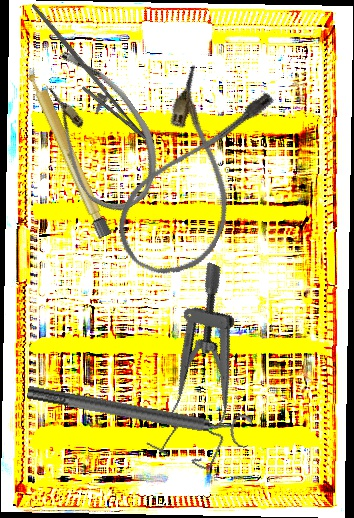Cannula: (104, 58, 281, 293), (12, 37, 181, 224)
Fixation Ring: (24, 372, 254, 452)
Needle Holder: (7, 3, 162, 150)
Scalpel Handle: (24, 65, 112, 239)
Speculum: (129, 260, 287, 474)
